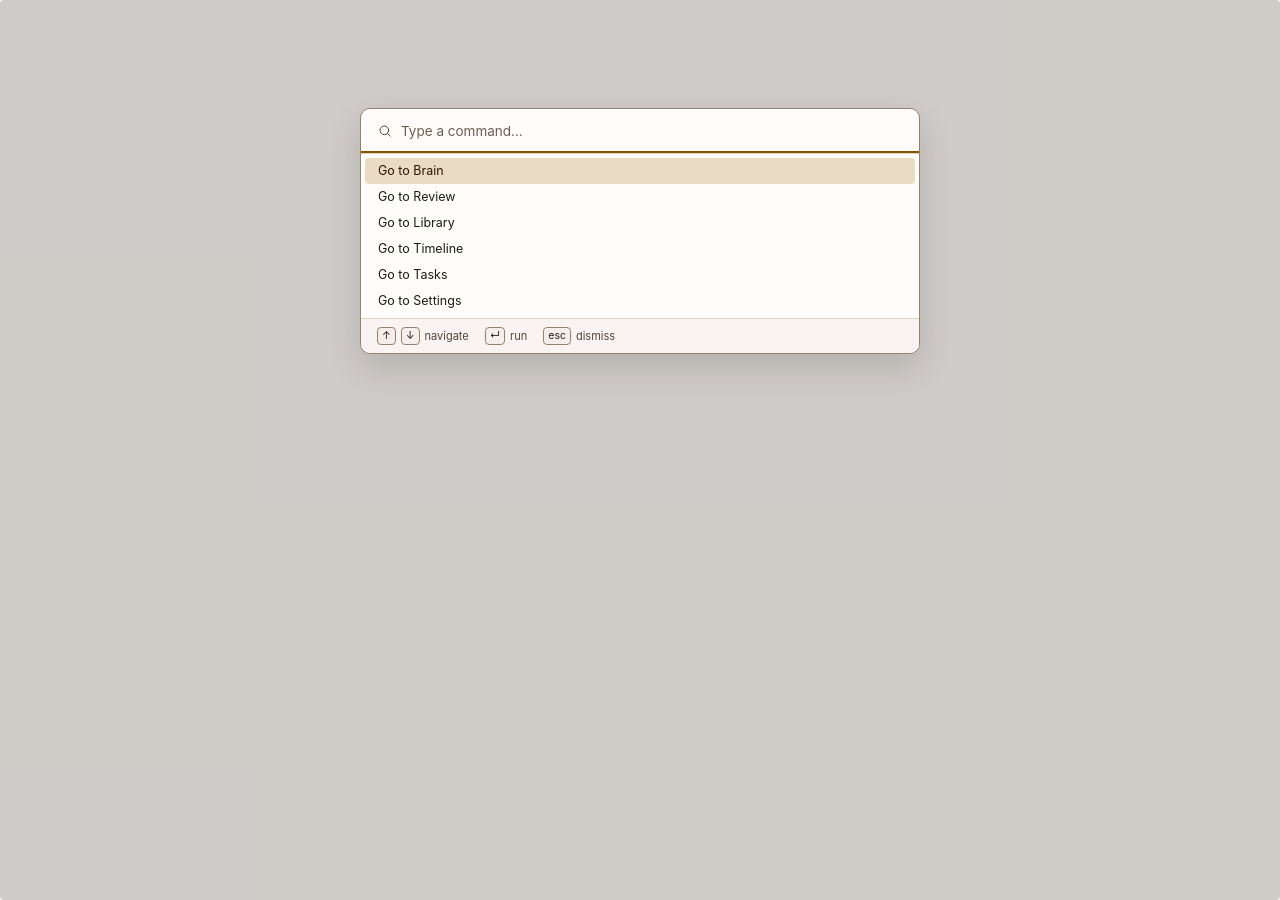
Test: query filters registry commands and surfaces entity and document matches
Type "apollo" into the dropdown named "Search commands".
click(652, 131); type("apollo")  # box [401,109,903,153]
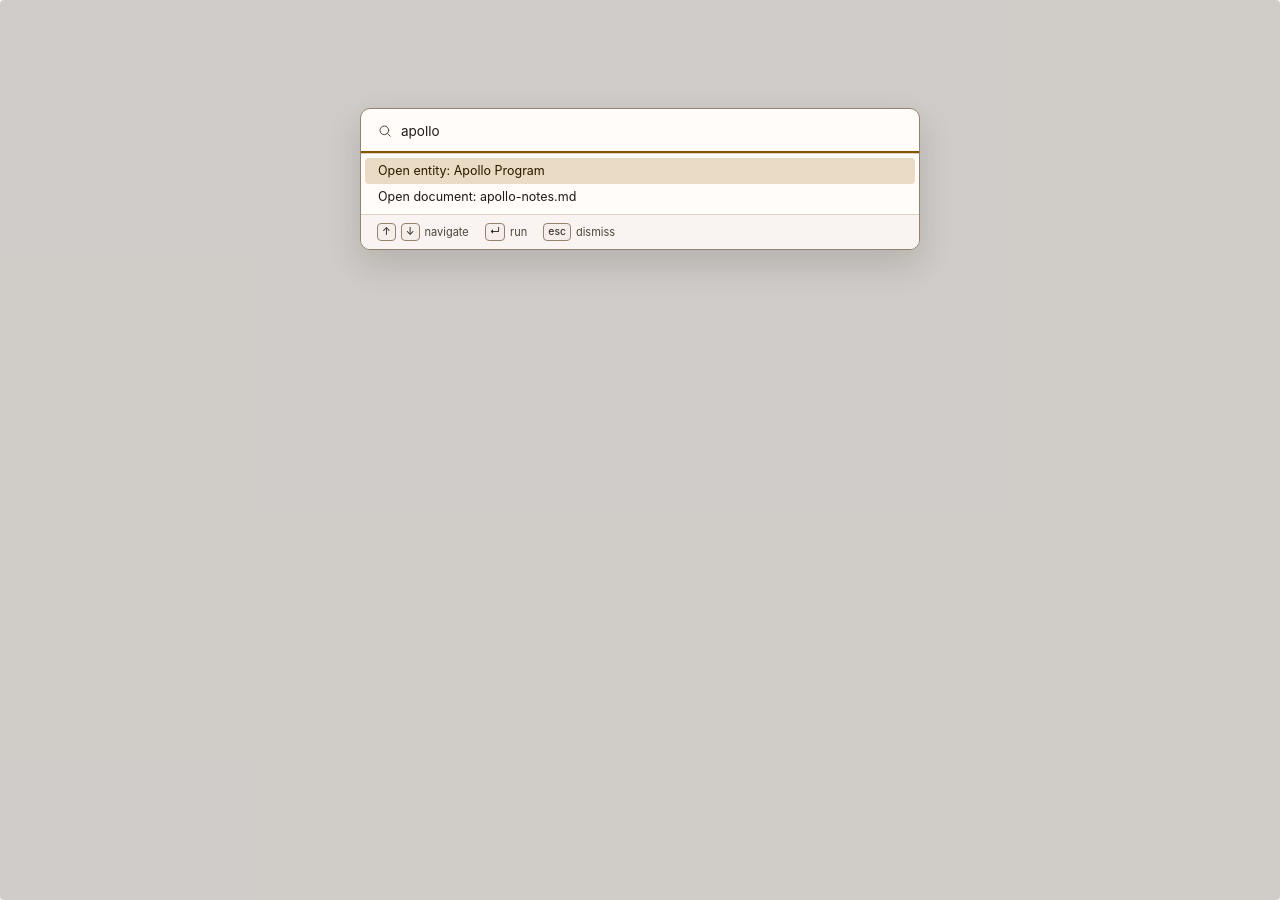
Expected: the option "Open entity: Apollo Program" is shown, [365,158,915,184]
Expected: the option "Open document: apollo-notes.md" is shown, [365,184,915,210]
Expected: the option "Go to Brain" is gone
